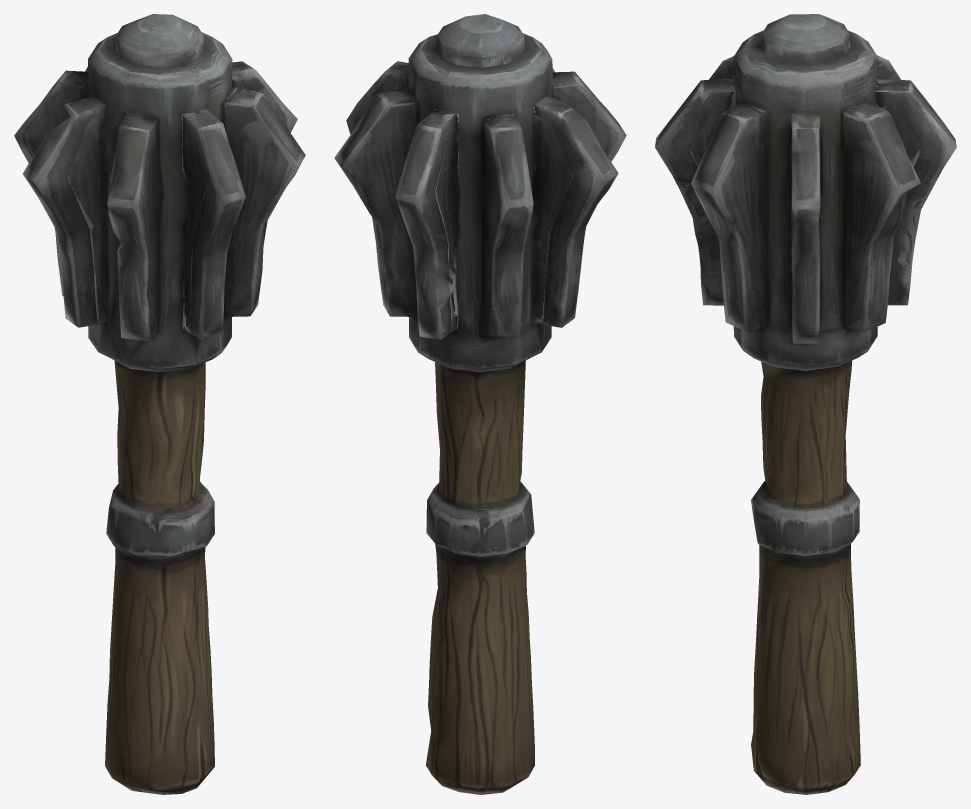
The model's file is Prop_Weapon_Mace.fbx.
The picture shows the model from 3 angles, left to right: view 1: azimuth 30°, elevation 25°; view 2: azimuth 150°, elevation 25°; view 3: azimuth 270°, elevation 25°; orthographic projection.
Parts seen in each view (by area): view 1: texture_mapping; view 2: texture_mapping; view 3: texture_mapping.
Part boxes in pixels (bbox=[...]): texture_mapping: bbox=[14, 14, 305, 794]; texture_mapping: bbox=[334, 14, 626, 794]; texture_mapping: bbox=[655, 14, 956, 794].
Size of the model in its own units: 0.364 by 0.3624 by 1.
1 material, 1 textured.
